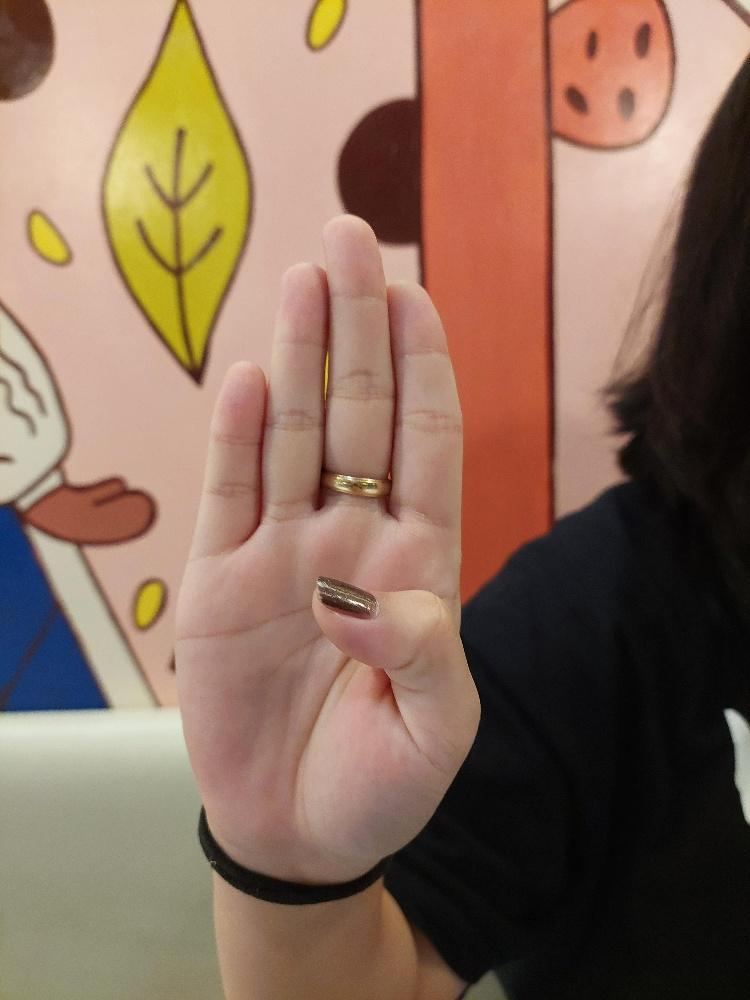b: (171, 207, 484, 866)
